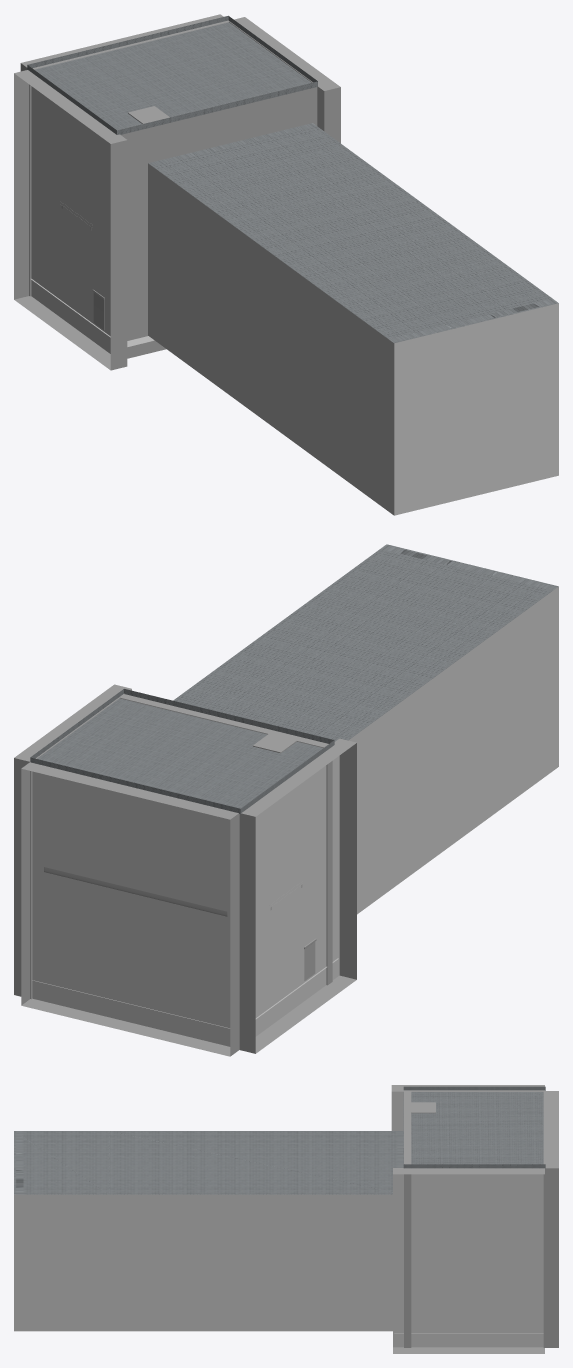
File: full_kitchen_1_32.fbx
The picture shows the model from 3 angles, top to bottom: view 1: azimuth 30°, elevation 25°; view 2: azimuth 150°, elevation 25°; view 3: azimuth 270°, elevation 25°; orthographic projection. The views are drawn at different scales.
Visible parts, largest first — view 1: pCube196, pCube6, pCube12, pCube4, pCube5, pCube3; view 2: pCube196, pCube3, pCube6, pCube12, pCube5, pCube4, pCylinder38; view 3: pCube196, pCube5, pCube12, pCube3, pCube4, pCube6.
Part boxes in pixels (x1=…): pCube196: x1=148, y1=123, x2=558, y2=515; pCube6: x1=14, y1=70, x2=127, y2=370; pCube12: x1=27, y1=15, x2=317, y2=134; pCube4: x1=121, y1=87, x2=317, y2=358; pCube5: x1=229, y1=17, x2=340, y2=143; pCube3: x1=20, y1=14, x2=228, y2=296; pCube196: x1=173, y1=544, x2=558, y2=914; pCube3: x1=21, y1=762, x2=239, y2=1056; pCube6: x1=239, y1=738, x2=356, y2=1053; pCube12: x1=30, y1=689, x2=334, y2=814; pCube5: x1=14, y1=684, x2=131, y2=999; pCube4: x1=119, y1=694, x2=332, y2=985; pCylinder38: x1=44, y1=867, x2=227, y2=916; pCube196: x1=14, y1=1131, x2=403, y2=1331; pCube5: x1=393, y1=1168, x2=544, y2=1353; pCube12: x1=403, y1=1086, x2=545, y2=1168; pCube3: x1=543, y1=1091, x2=558, y2=1347; pCube4: x1=404, y1=1091, x2=411, y2=1347; pCube6: x1=391, y1=1085, x2=544, y2=1130.
Bounding box in the file's own units: 4.23 × 4.05 × 10.9.
